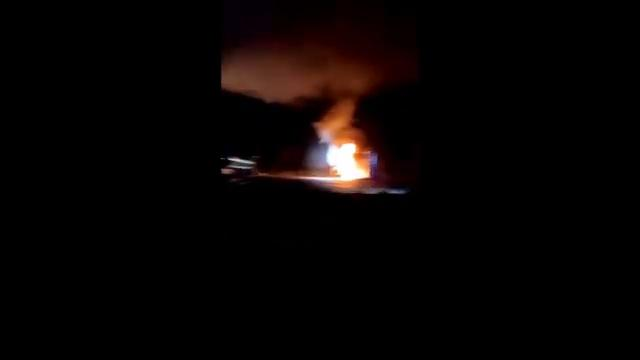fire: (327, 145, 366, 184)
smoke: (233, 54, 354, 91)
